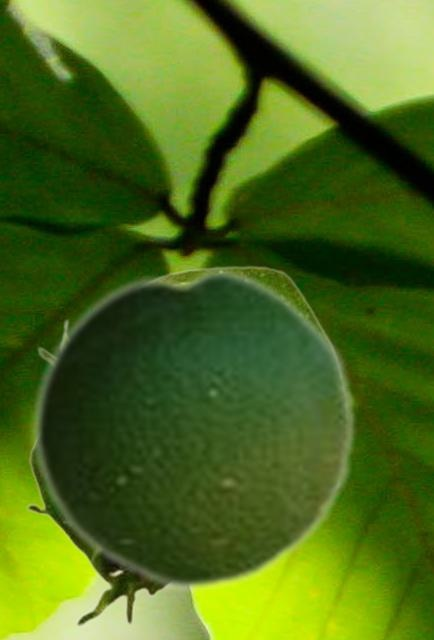dalandan: (24, 265, 325, 627), (30, 263, 357, 594)
